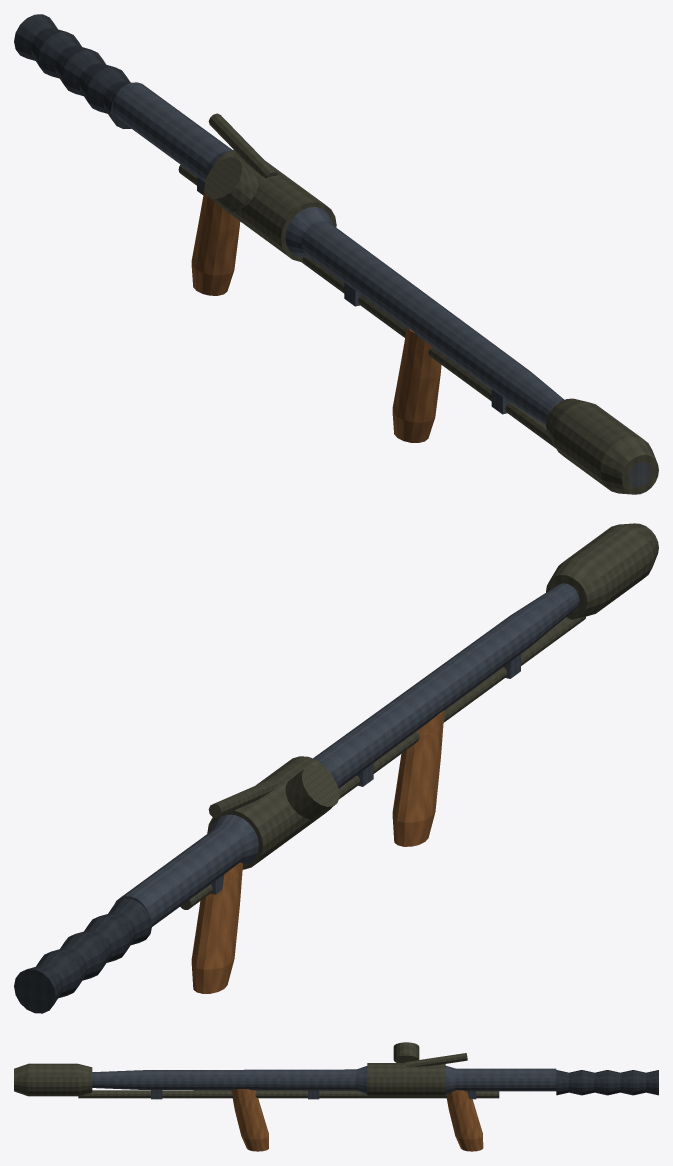
Rendered from wex.glb.
The picture shows the model from 3 angles, top to bottom: view 1: azimuth 30°, elevation 25°; view 2: azimuth 150°, elevation 25°; view 3: azimuth 270°, elevation 25°; orthographic projection. The views are drawn at different scales.
Parts seen in each view (by area): view 1: wex.body; view 2: wex.body; view 3: wex.body.
Part boxes in pixels (box(x1,y1,x2,y2)): wex.body: box(14, 14, 658, 494); wex.body: box(14, 523, 658, 1013); wex.body: box(14, 1042, 658, 1151).
Bounding box in the file's own units: 0.0958 × 0.1824 × 1.1.
Materials: 4 (4 with a texture image).
